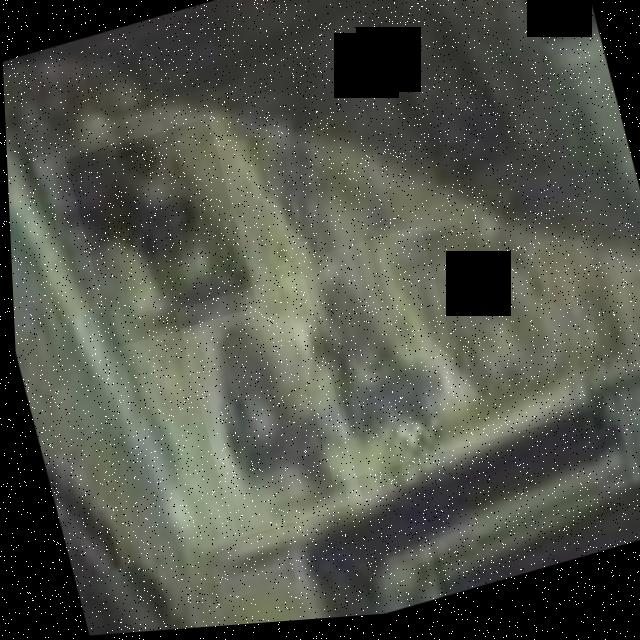0: (370, 180, 594, 444)
4: (273, 228, 473, 491), (171, 274, 359, 546)
B: (333, 0, 547, 226), (63, 118, 255, 351)
